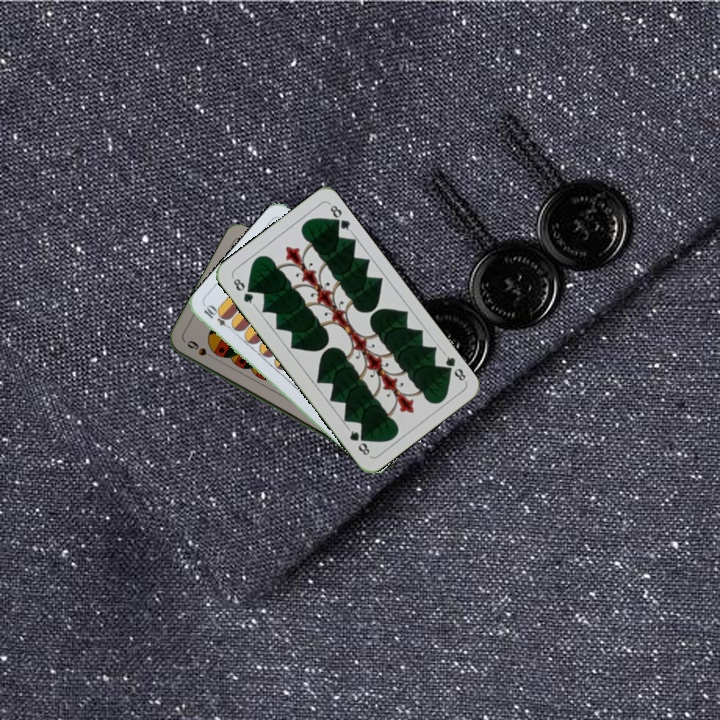E10: (200, 302, 236, 333)
G8: (439, 349, 469, 384), (228, 272, 257, 308)
S9: (183, 337, 219, 363)
